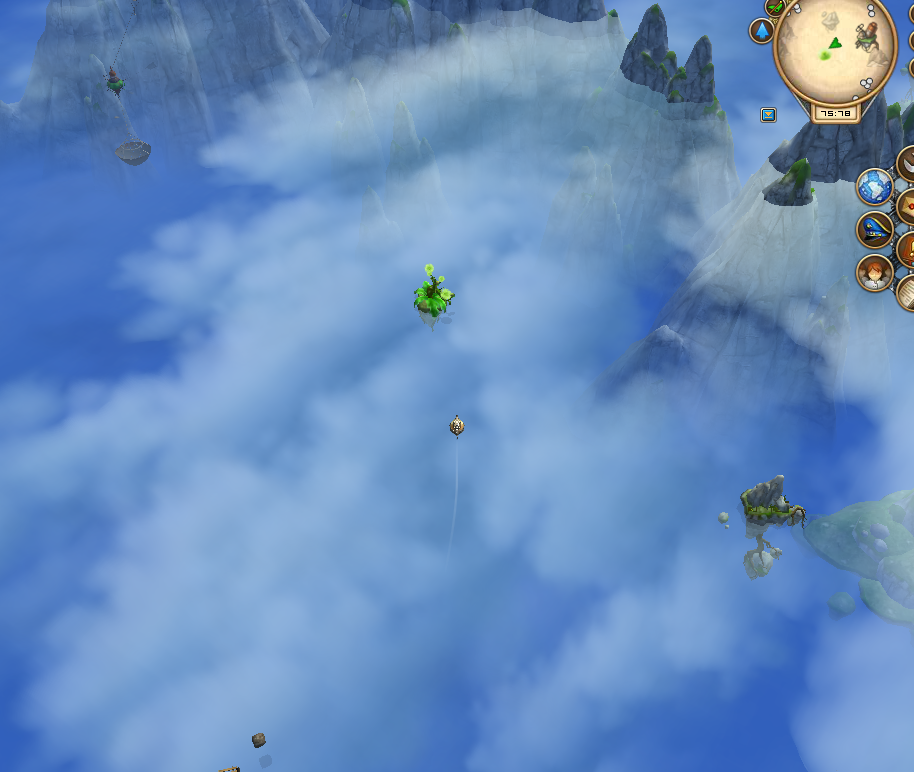dandelion-full: (405, 254, 459, 327)
